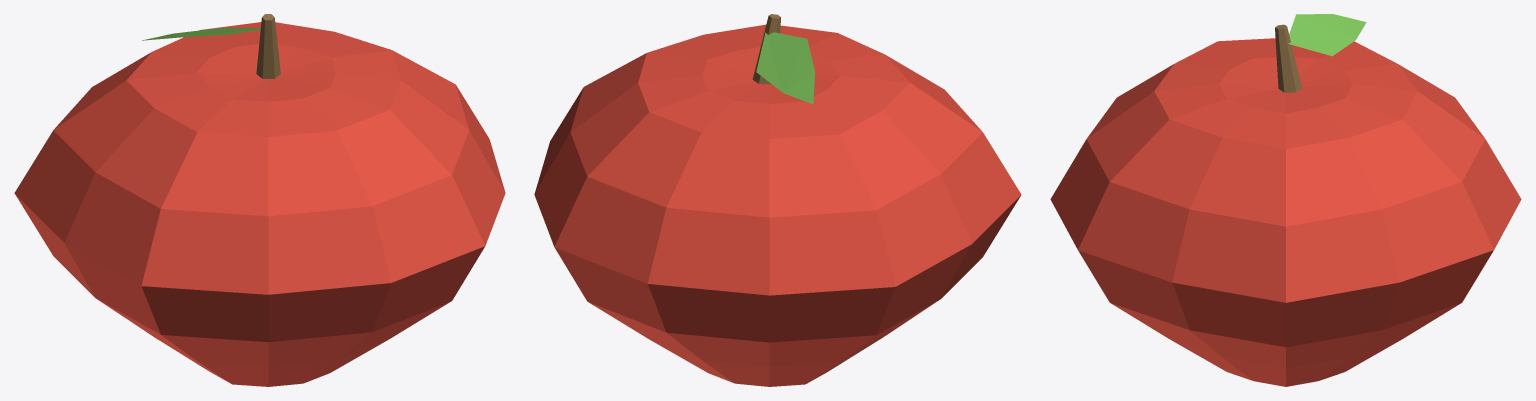
File: Apple.fbx
3 renders of one model, left to right at view 1: azimuth 30°, elevation 25°; view 2: azimuth 150°, elevation 25°; view 3: azimuth 270°, elevation 25°, orthographic. The views are drawn at different scales.
Parts seen in each view (by area): view 1: LowPoly_Apple; view 2: LowPoly_Apple; view 3: LowPoly_Apple.
Part boxes in pixels (x1,y1,x2,y2): LowPoly_Apple: [14, 14, 505, 386]; LowPoly_Apple: [534, 14, 1021, 386]; LowPoly_Apple: [1050, 14, 1521, 386].
Bounding box in the file's own units: 230 × 190 × 230.
